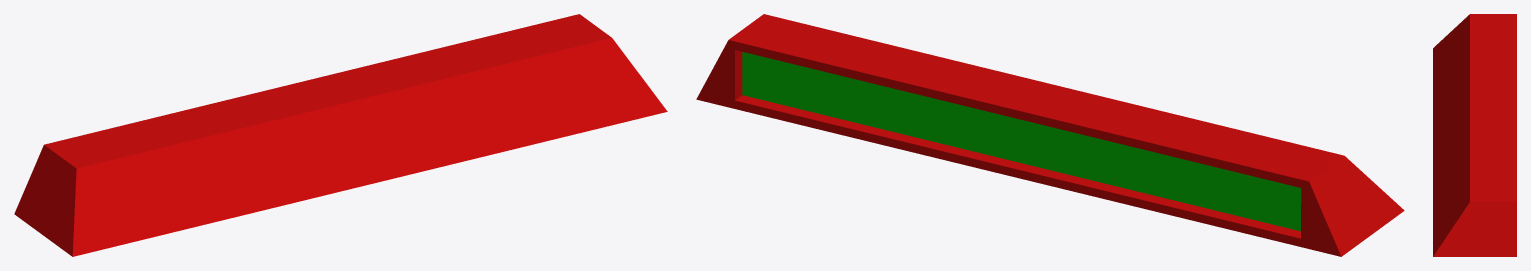
Rendered from FloorLight.fbx.
3 views of the same model, side by side, from view 1: azimuth 30°, elevation 25°; view 2: azimuth 150°, elevation 25°; view 3: azimuth 270°, elevation 25° (orthographic). The views are drawn at different scales.
Parts seen in each view (by area): view 1: FloorLight; view 2: FloorLight; view 3: FloorLight.
Boxes of the visible parts, x1,y1,x2,y2 form: FloorLight: (14, 14, 667, 256); FloorLight: (696, 14, 1404, 256); FloorLight: (1433, 14, 1516, 256).
Size of the model in its own units: 200 by 20 by 34.01.
